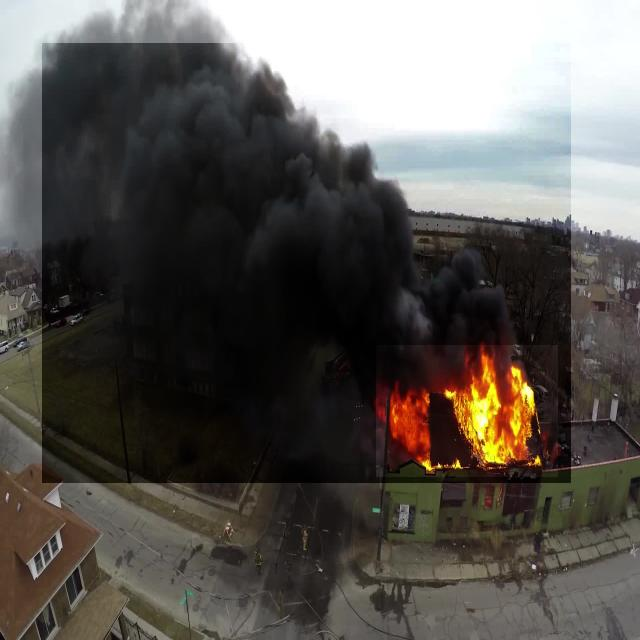Fire: (376, 345, 558, 477)
Smoke: (42, 43, 571, 483)
